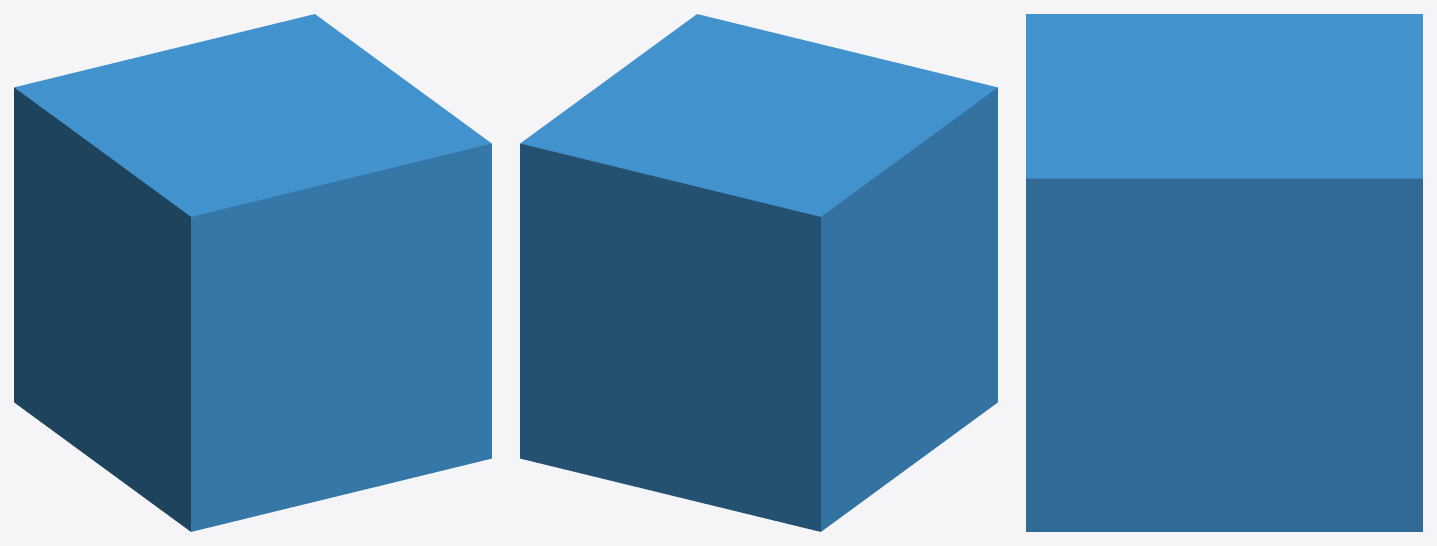
The picture shows the model from 3 angles, left to right: view 1: azimuth 30°, elevation 25°; view 2: azimuth 150°, elevation 25°; view 3: azimuth 270°, elevation 25°; orthographic projection. The views are drawn at different scales.
Visible parts, largest first — view 1: Cube; view 2: Cube; view 3: Cube.
Part boxes in pixels (x1,y1,x2,y2): Cube: (14, 14, 491, 531); Cube: (520, 14, 997, 531); Cube: (1026, 14, 1422, 531).
Size of the model in its own units: 50.22 by 50.27 by 51.17.
